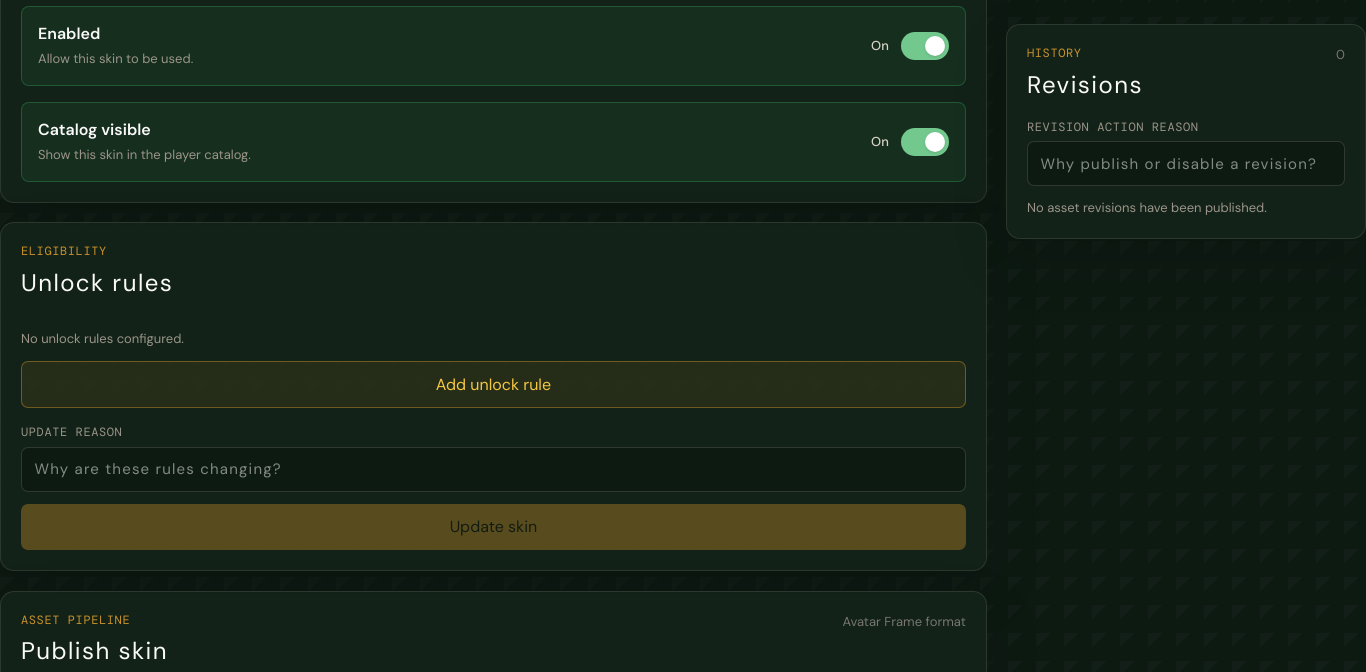
Scenario: scopes a game condition to an event
This screenshot has width=1366, height=672.
(page scrolled)
Click the button "Add unlock rule" at coordinates (493, 385), box left=21, top=361, right=966, bottom=408
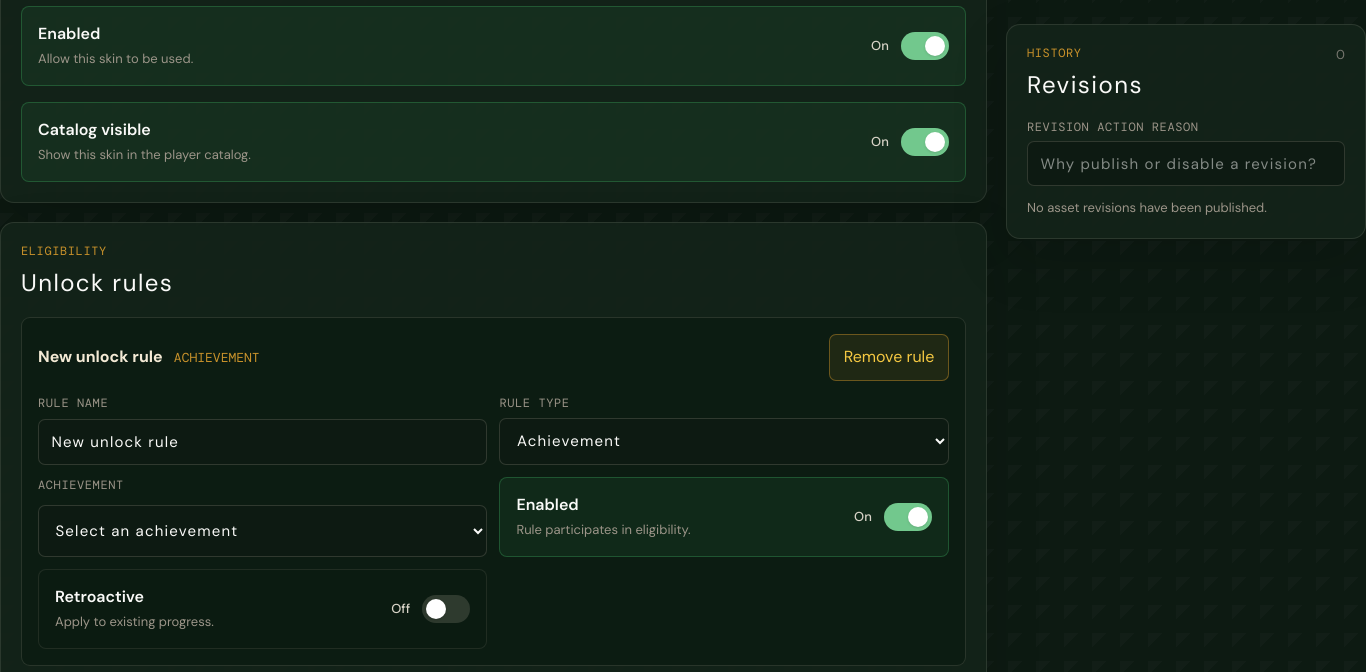
Select "Game Condition" in the dropdown labelled "Rule type" at coordinates (724, 441), box left=499, top=418, right=949, bottom=465
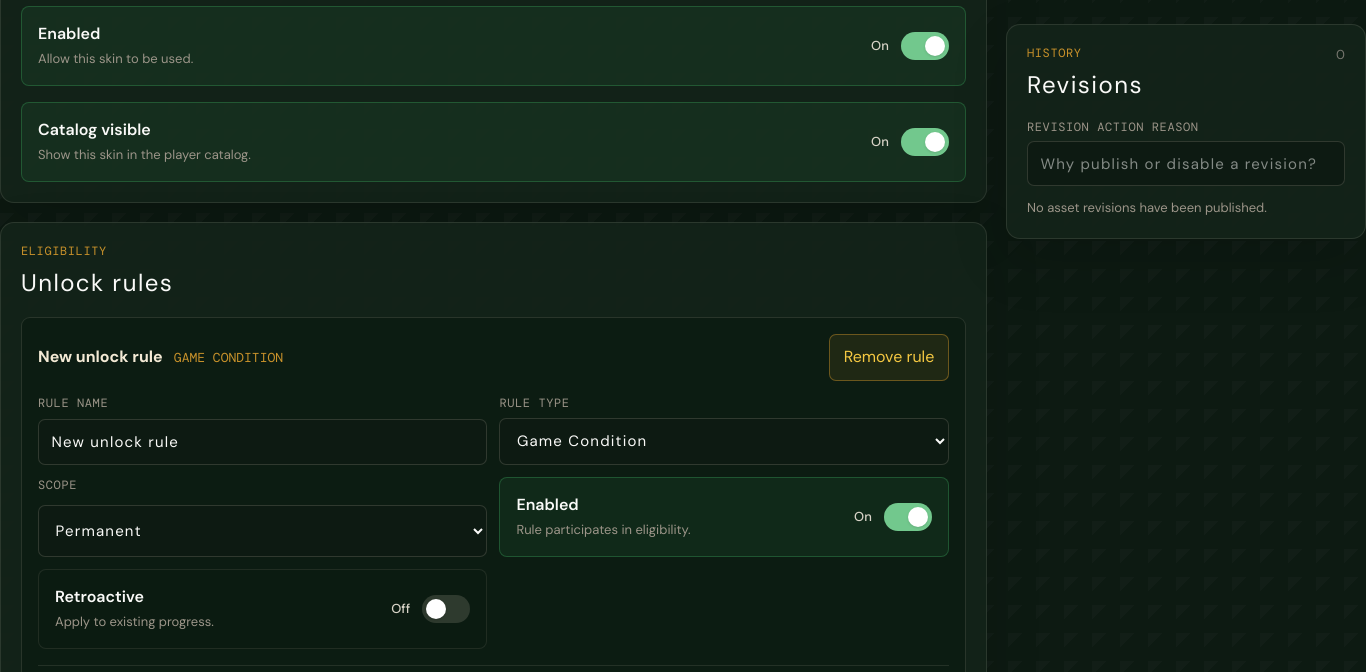
Select "Event" in the dropdown labelled "Scope" at coordinates (263, 531), box left=38, top=505, right=487, bottom=557
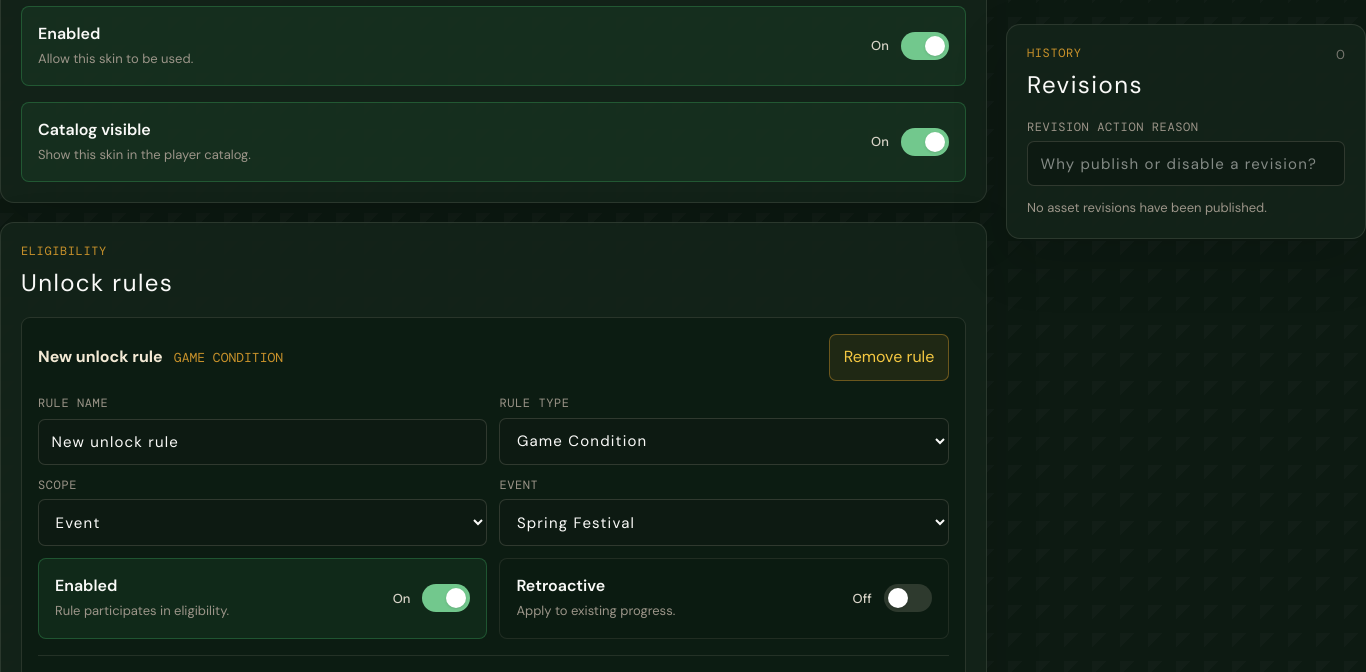
Expected: the dropdown labelled "Event" shows "Spring Festival", left=499, top=499, right=949, bottom=546
